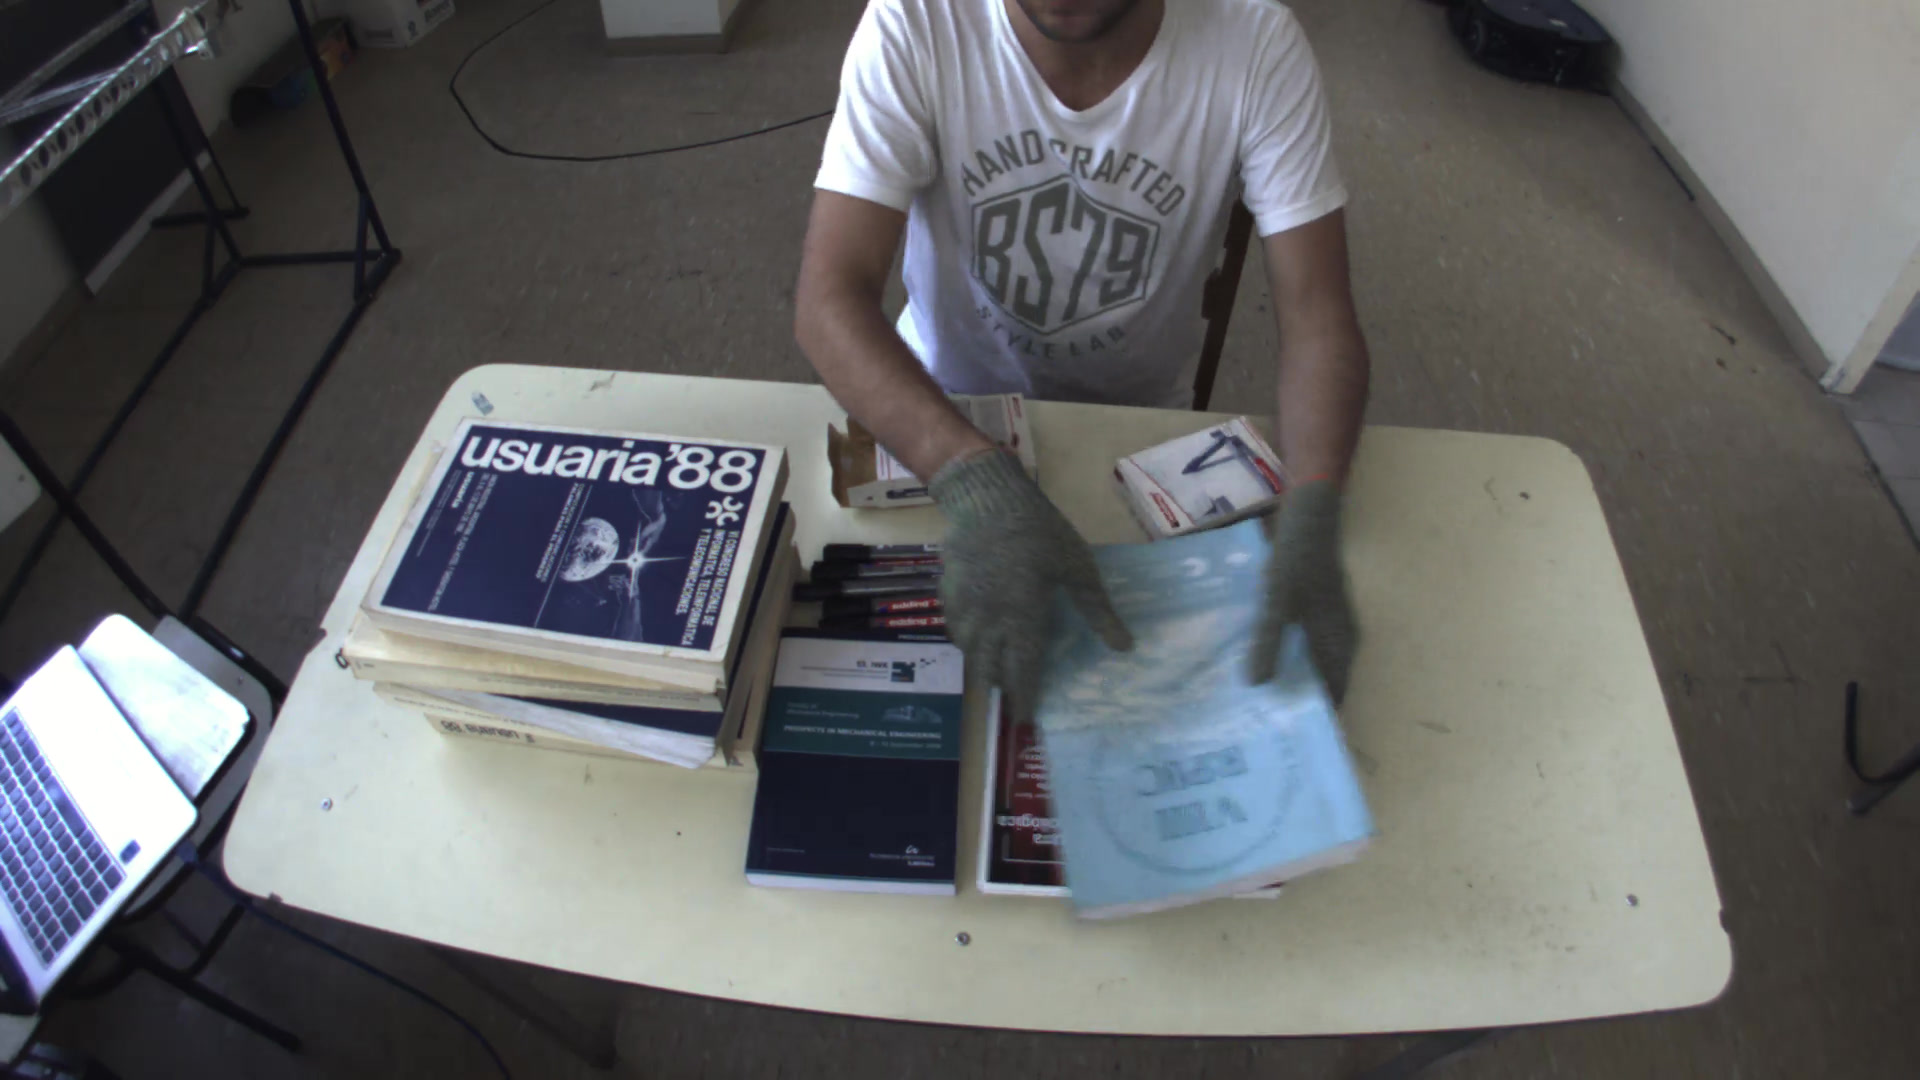hand: (891, 435, 1142, 679), (1242, 459, 1365, 727)
